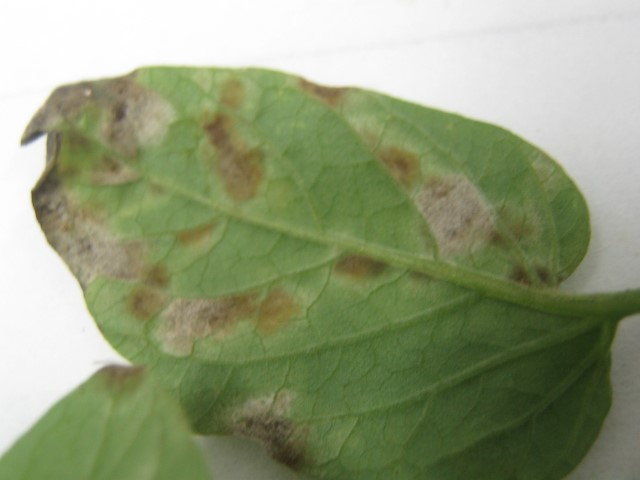cladosporium: (192, 116, 272, 211), (231, 282, 317, 334), (378, 148, 430, 198), (331, 249, 390, 283), (134, 265, 170, 317), (92, 155, 137, 191)
